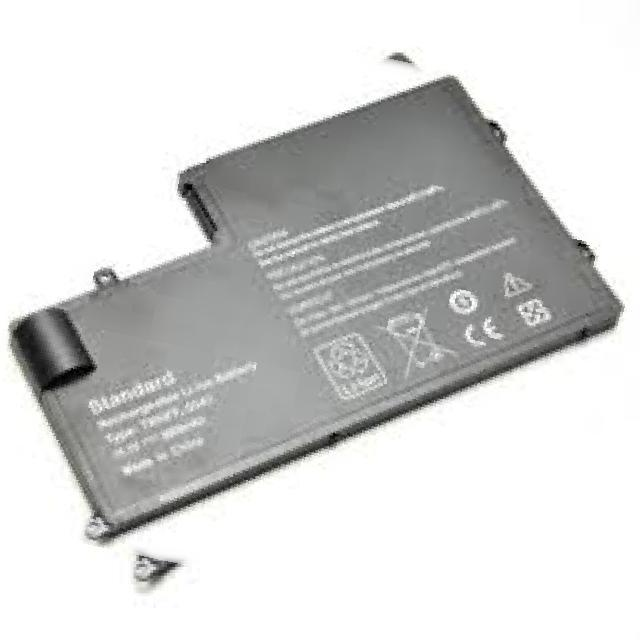Battery: (1, 54, 639, 581)
